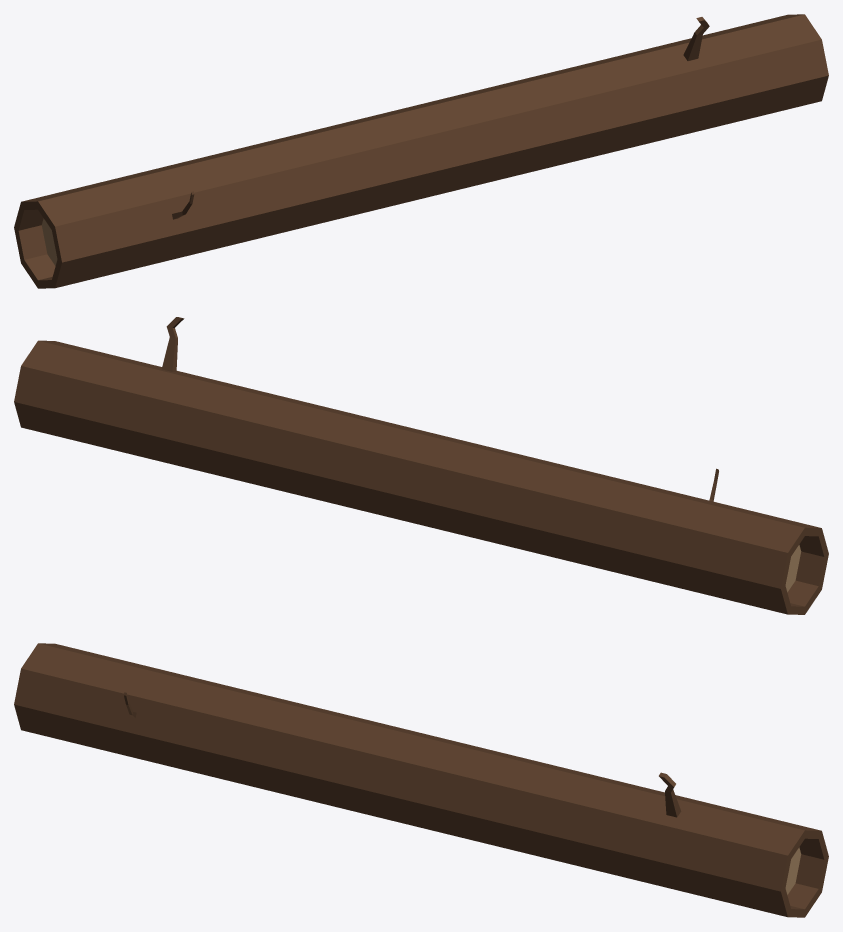
File: Stick.fbx
3 views of the same model, one above another, from view 1: azimuth 30°, elevation 25°; view 2: azimuth 150°, elevation 25°; view 3: azimuth 330°, elevation 25° (orthographic).
Parts seen in each view (by area): view 1: Circle; view 2: Circle; view 3: Circle.
Part boxes in pixels (x1,y1,x2,y2): Circle: [14, 14, 828, 288]; Circle: [14, 317, 828, 614]; Circle: [14, 643, 828, 917].
Bounding box in the file's own units: 543 × 86.07 × 71.24.
